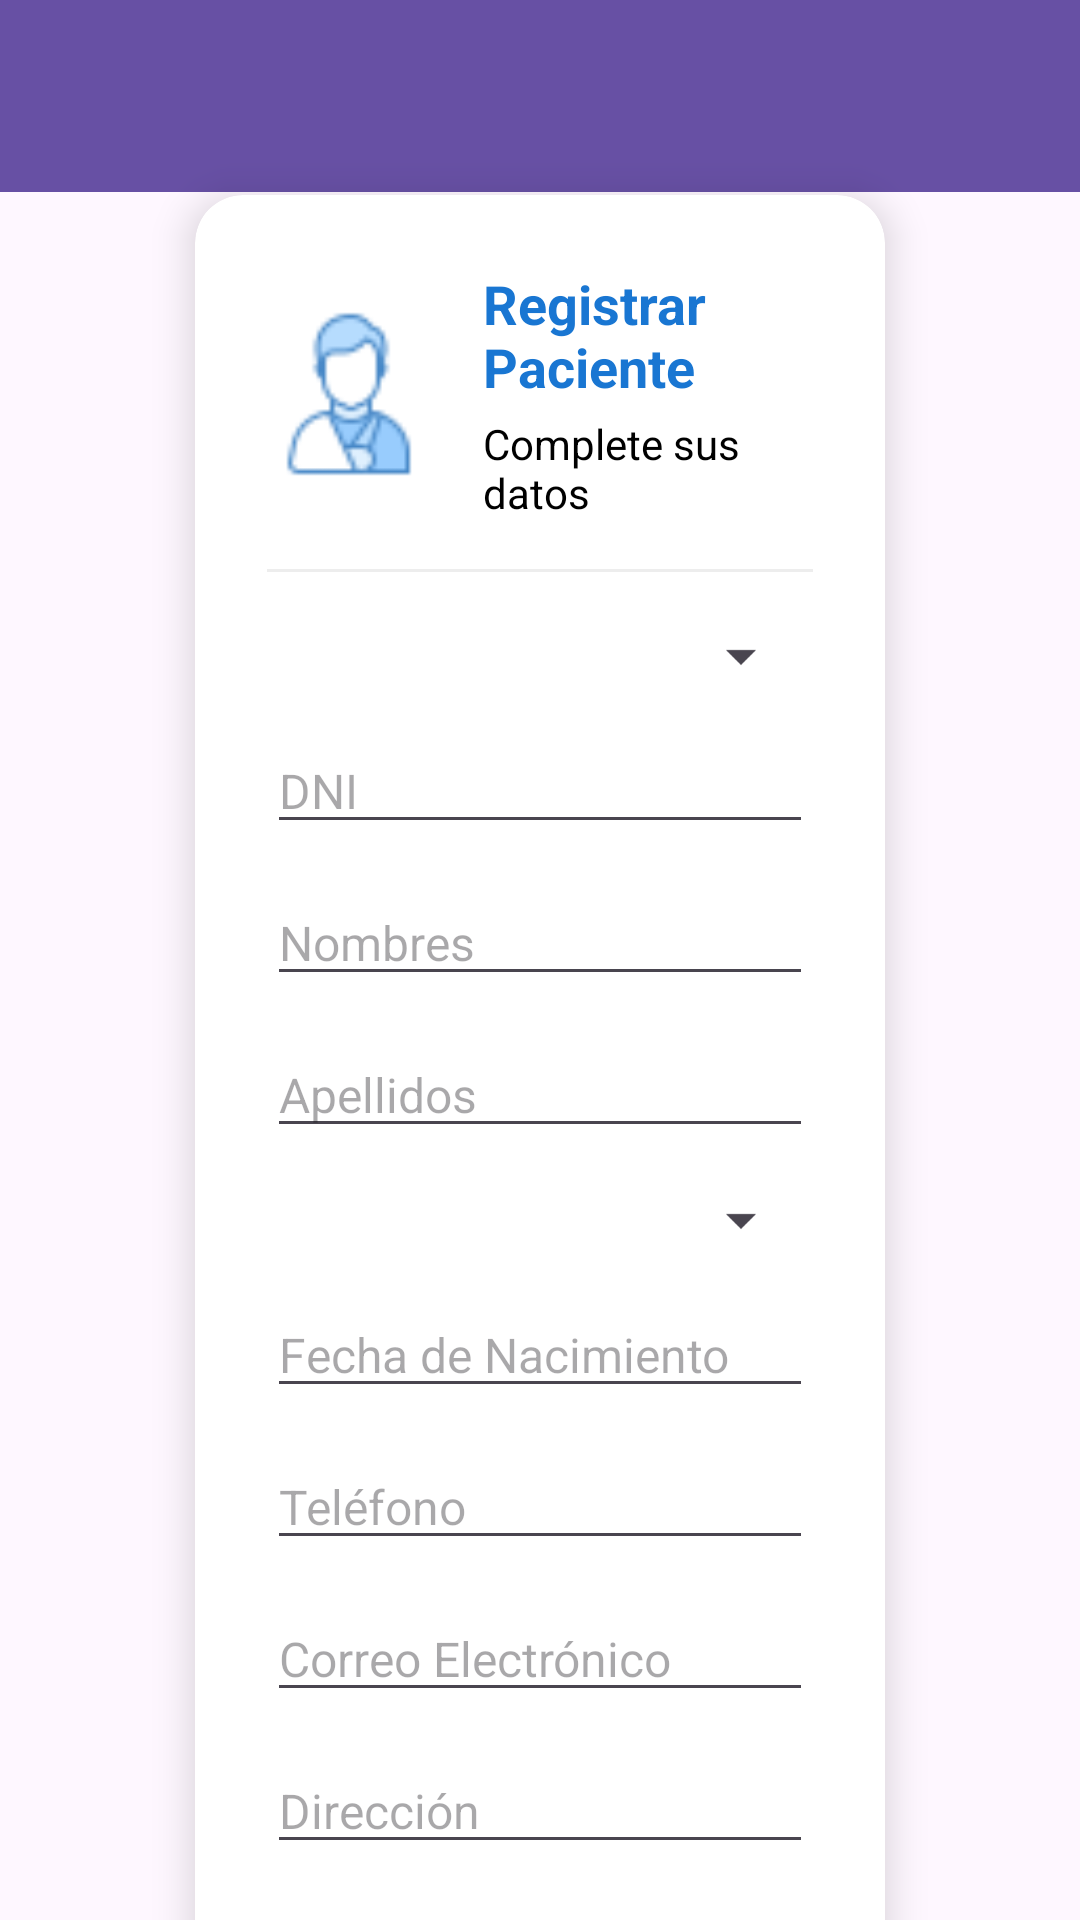

Named icons in this screenshot (1080×1920) and their bounding boxes, {"left": x1, "top": y1, "right": x2, "bottom": y2}:
Icono Paciente: {"left": 286, "top": 313, "right": 411, "bottom": 475}
